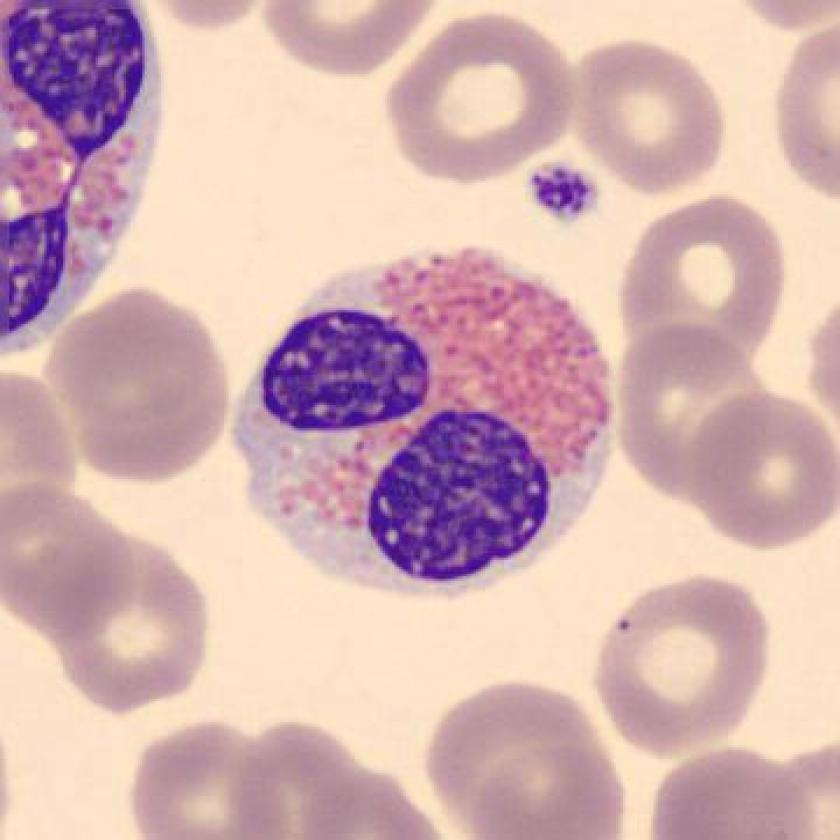eosinophil: (220, 235, 636, 617)
